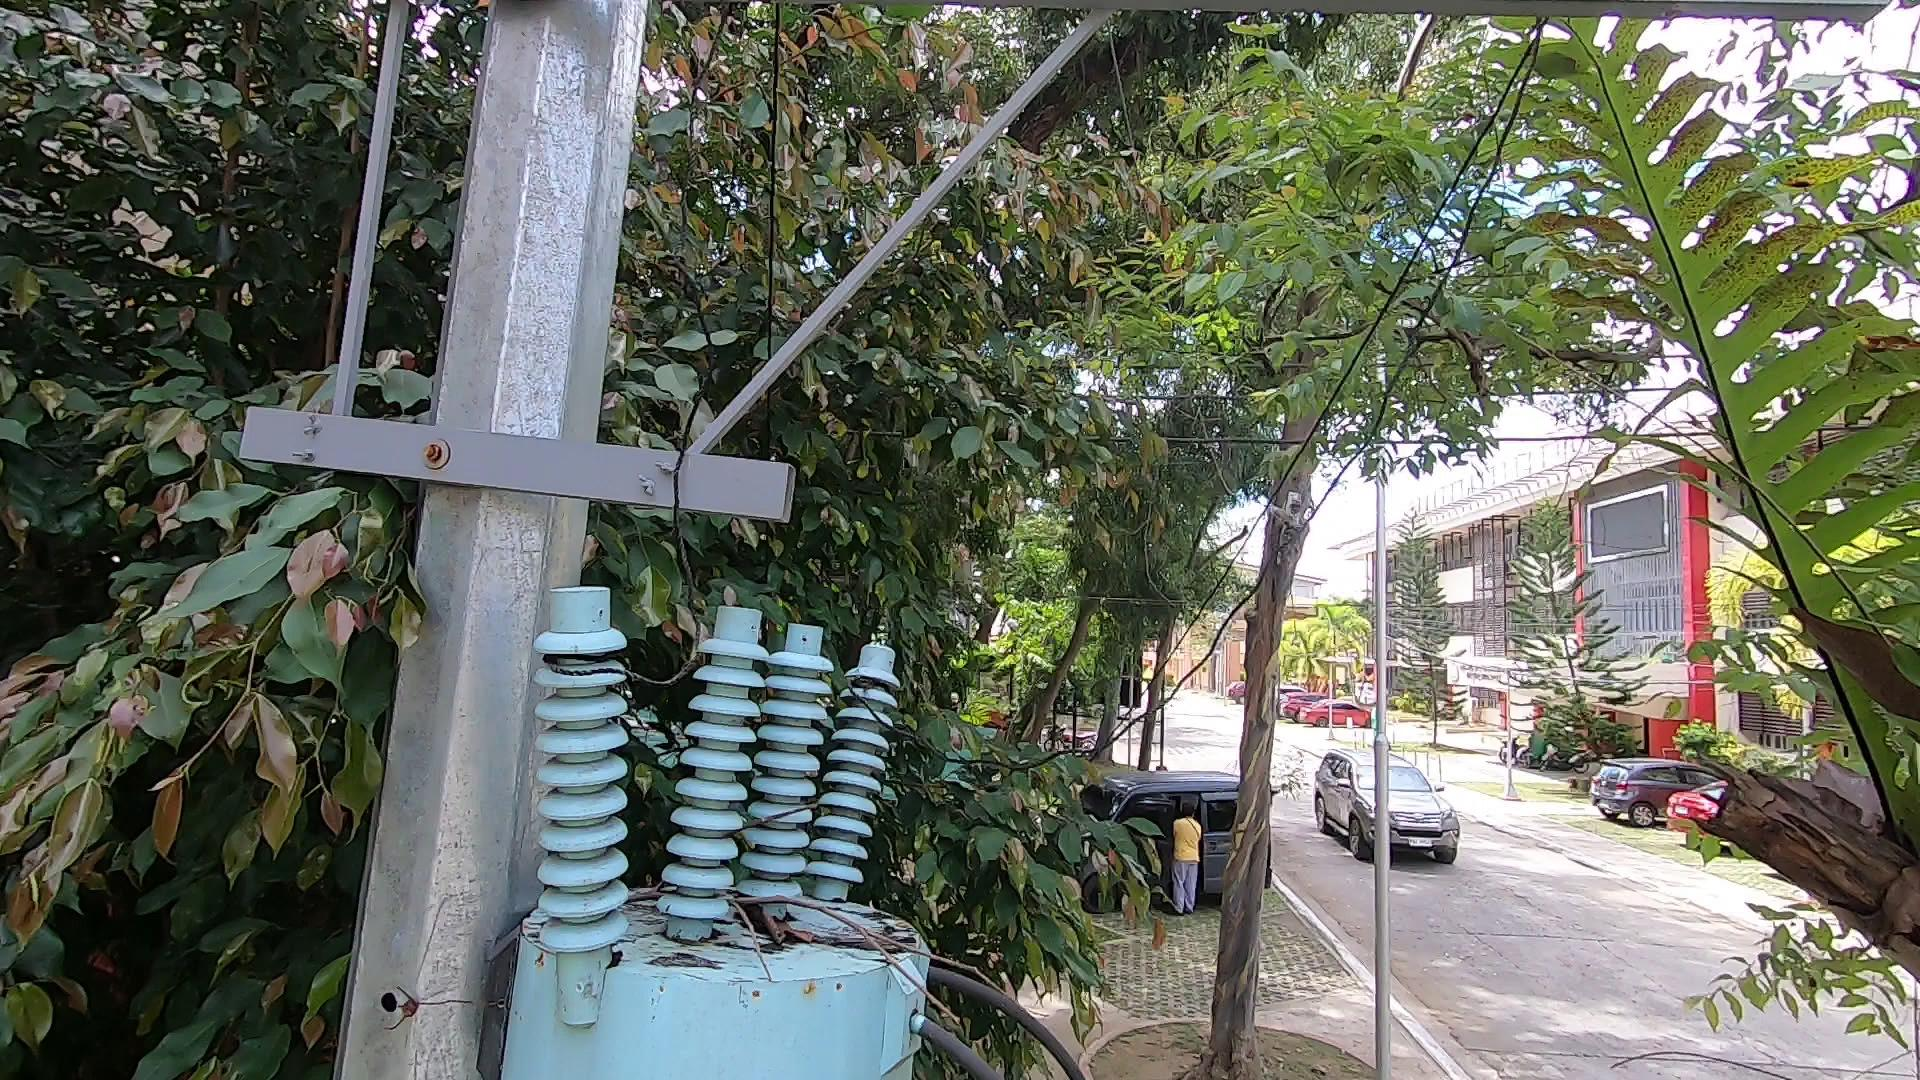leaf: (694, 878, 819, 957)
tree branch: (579, 852, 1029, 1050)
